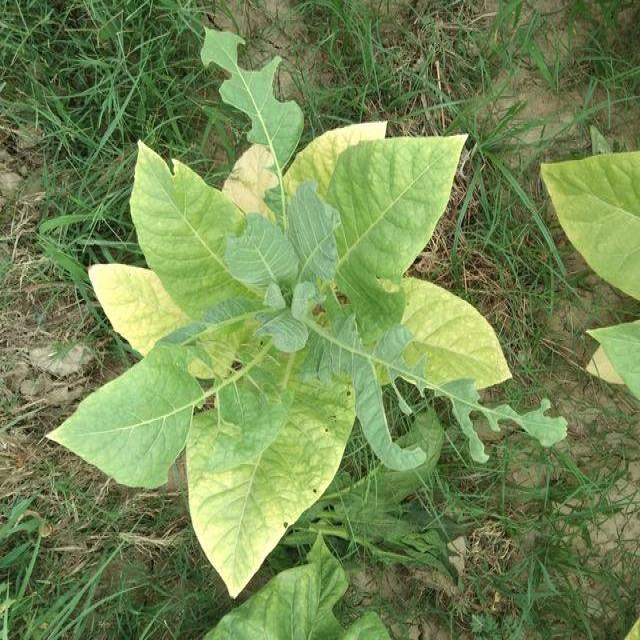crop: (52, 16, 552, 608)
